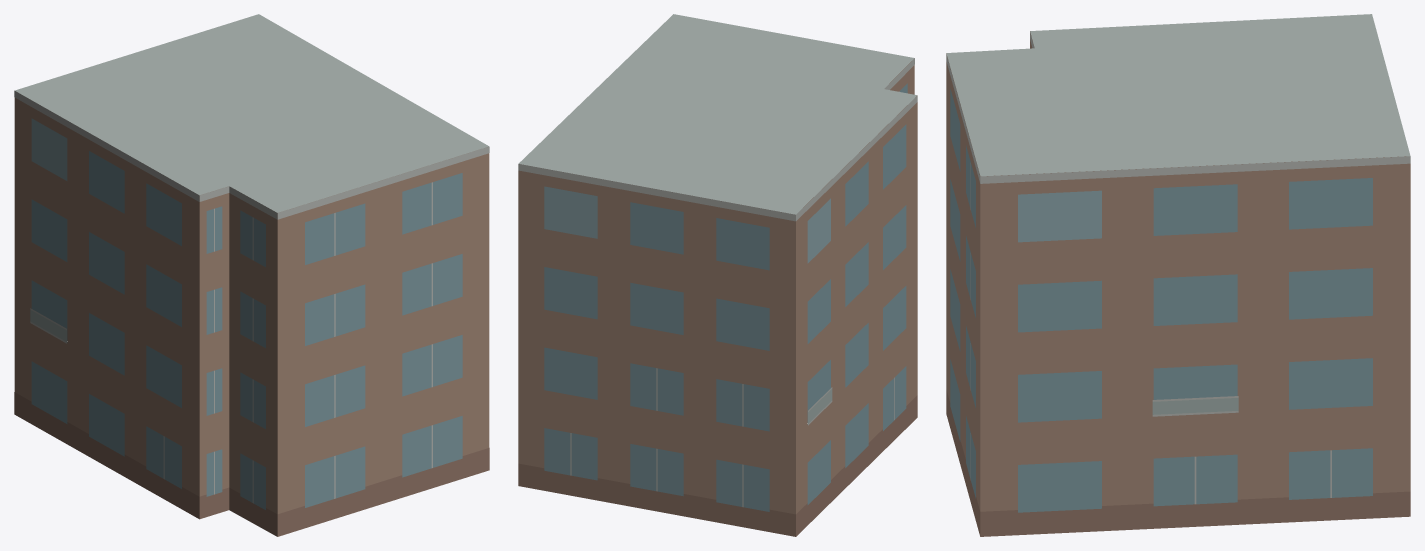
File: survey-upis-32743876.glb
3 views of the same model, side by side, from view 1: azimuth 30°, elevation 25°; view 2: azimuth 150°, elevation 25°; view 3: azimuth 270°, elevation 25° (orthographic). The views are drawn at different scales.
Visible parts, largest first — view 1: survey-upis-32743876.tmp; view 2: survey-upis-32743876.tmp; view 3: survey-upis-32743876.tmp.
Boxes of the visible parts, x1,y1,x2,y2 form: survey-upis-32743876.tmp: [14, 14, 489, 536]; survey-upis-32743876.tmp: [518, 14, 917, 536]; survey-upis-32743876.tmp: [946, 14, 1410, 536].
Size of the model in its own units: 11.31 by 11.7 by 13.67.
